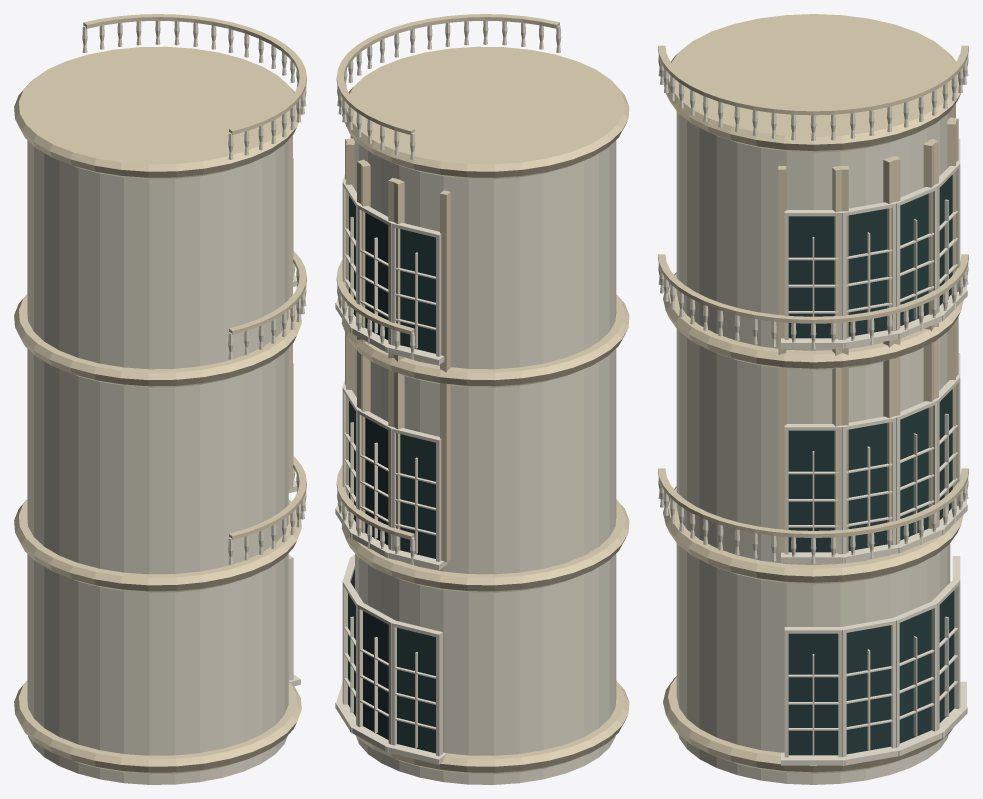
File: KOL_T1_METROPOLITAN__05_Clock_Corner.fbx
3 views of the same model, side by side, from view 1: azimuth 30°, elevation 25°; view 2: azimuth 150°, elevation 25°; view 3: azimuth 270°, elevation 25° (orthographic). The views are drawn at different scales.
Visible parts, largest first — view 1: KOL_T1_METROPOLITAN__05_Clock_Corner__KOL_T1_HeritageWhite, KOL_T1_METROPOLITAN__05_Clock_Corner__KOL_T1_HeritageCream; view 2: KOL_T1_METROPOLITAN__05_Clock_Corner__KOL_T1_HeritageWhite, KOL_T1_METROPOLITAN__05_Clock_Corner__KOL_T1_HeritageCream, KOL_T1_METROPOLITAN__05_Clock_Corner__KOL_T1_HeritageGlass; view 3: KOL_T1_METROPOLITAN__05_Clock_Corner__KOL_T1_HeritageWhite, KOL_T1_METROPOLITAN__05_Clock_Corner__KOL_T1_HeritageCream, KOL_T1_METROPOLITAN__05_Clock_Corner__KOL_T1_HeritageGlass.
Boxes of the visible parts, x1=… form: KOL_T1_METROPOLITAN__05_Clock_Corner__KOL_T1_HeritageWhite: x1=27, y1=20, x2=306, y2=784; KOL_T1_METROPOLITAN__05_Clock_Corner__KOL_T1_HeritageCream: x1=14, y1=14, x2=306, y2=774; KOL_T1_METROPOLITAN__05_Clock_Corner__KOL_T1_HeritageWhite: x1=335, y1=20, x2=616, y2=784; KOL_T1_METROPOLITAN__05_Clock_Corner__KOL_T1_HeritageCream: x1=336, y1=14, x2=629, y2=774; KOL_T1_METROPOLITAN__05_Clock_Corner__KOL_T1_HeritageGlass: x1=348, y1=195, x2=435, y2=753; KOL_T1_METROPOLITAN__05_Clock_Corner__KOL_T1_HeritageWhite: x1=658, y1=55, x2=968, y2=784; KOL_T1_METROPOLITAN__05_Clock_Corner__KOL_T1_HeritageCream: x1=658, y1=14, x2=968, y2=773; KOL_T1_METROPOLITAN__05_Clock_Corner__KOL_T1_HeritageGlass: x1=788, y1=175, x2=954, y2=755.
Bounding box in the file's own units: 24.6 × 60.45 × 25.
